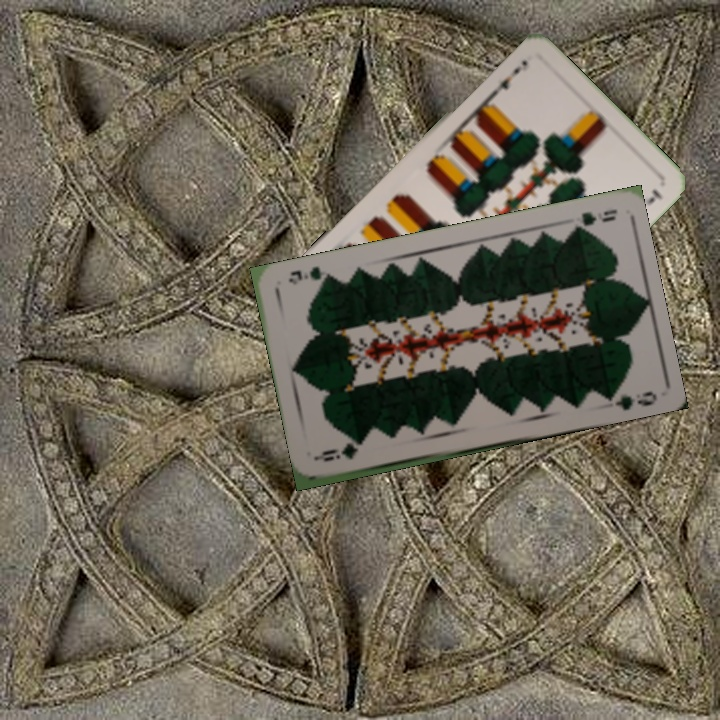E7: (485, 62, 524, 101)
G9: (565, 205, 620, 234), (318, 442, 361, 464)
